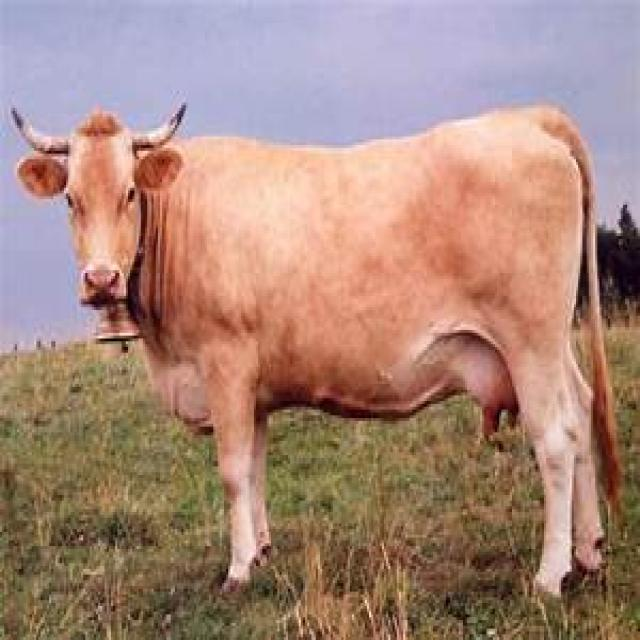cow: (12, 105, 619, 592)
